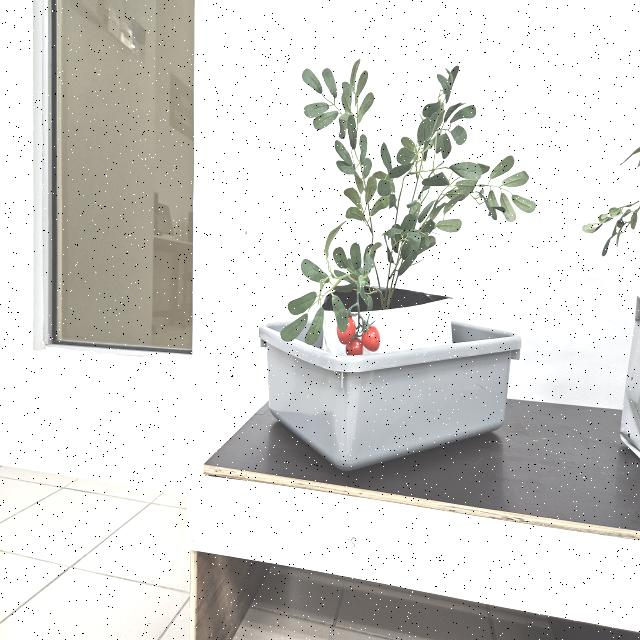Soilbag: (321, 296, 456, 416)
Tomato: (337, 314, 381, 355)
plant: (279, 60, 536, 356)
